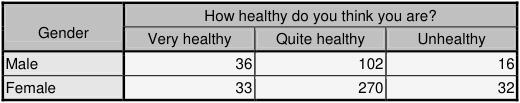table: (4, 3, 513, 96)
table column: (117, 3, 263, 96), (263, 3, 399, 96), (399, 3, 513, 96), (4, 3, 117, 96)
table column header: (4, 3, 513, 49)
table row: (4, 49, 513, 74), (4, 25, 513, 49), (4, 3, 513, 25), (4, 74, 513, 96)
table spanning cell: (117, 3, 513, 25), (4, 3, 117, 49)
